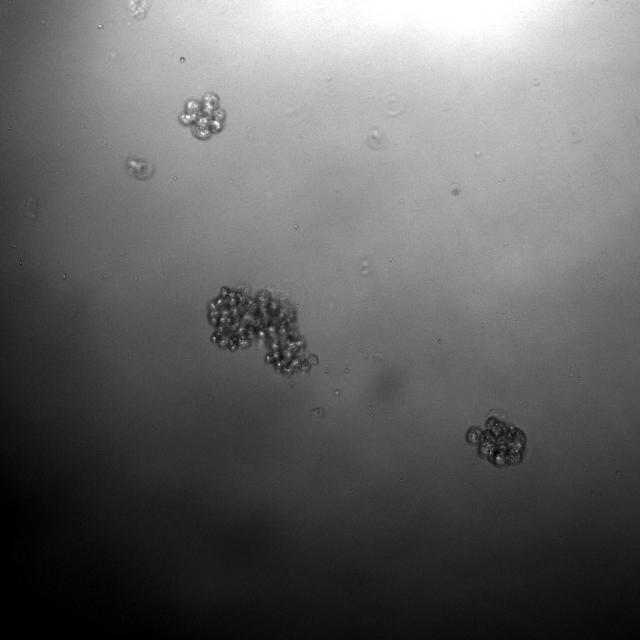organoid: (207, 287, 317, 375), (466, 412, 526, 467), (179, 91, 226, 140)
